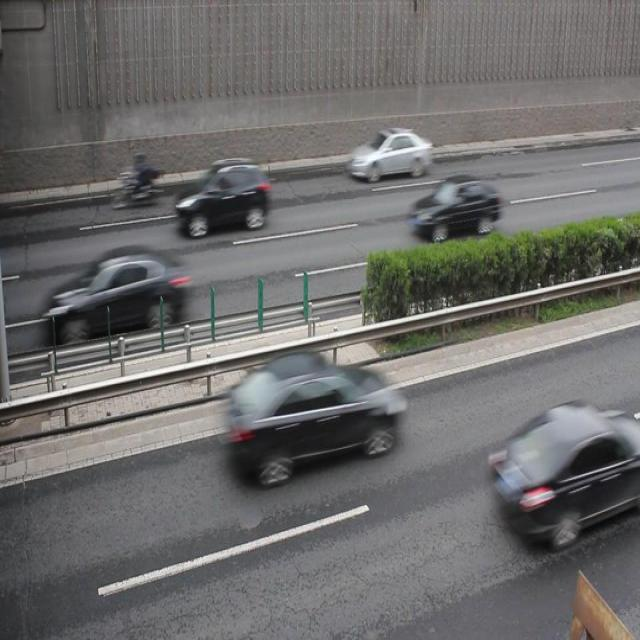car: (228, 348, 404, 483), (487, 398, 640, 546), (54, 244, 188, 346), (175, 155, 271, 236), (406, 173, 502, 242), (347, 124, 432, 181)
